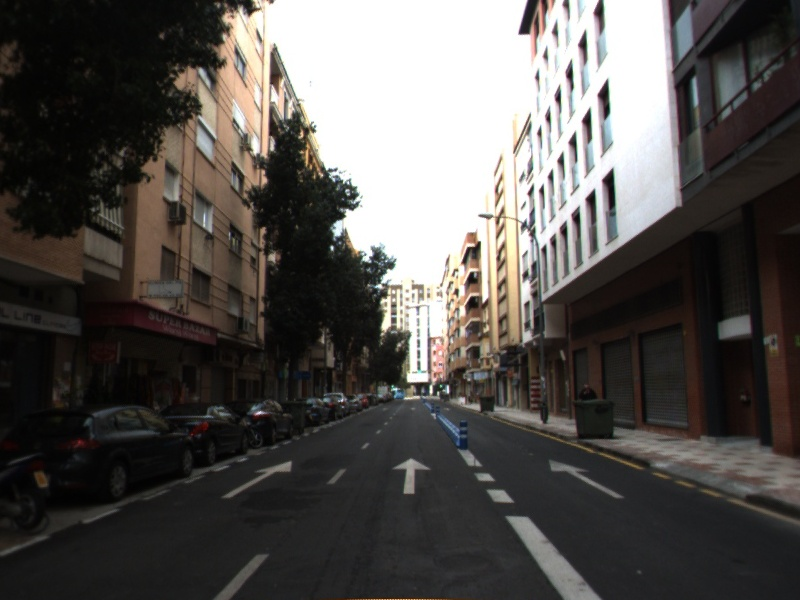STRAIGHT: (547, 458, 626, 500), (219, 459, 294, 500), (390, 457, 433, 496)
